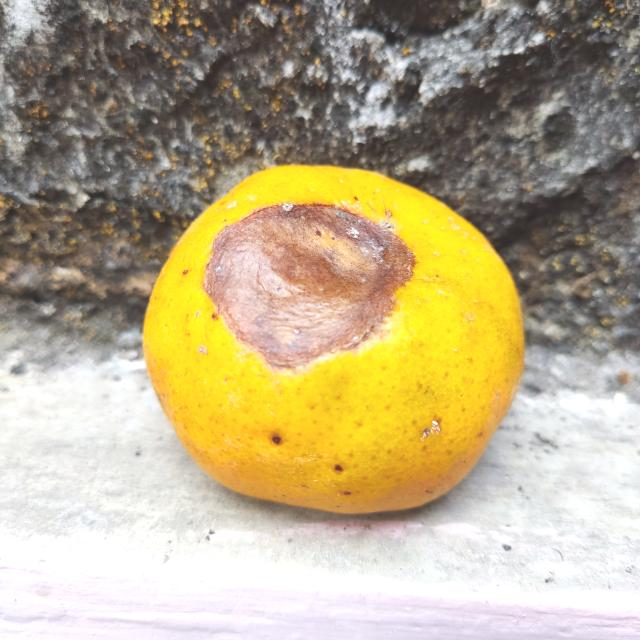orange: (143, 162, 527, 518)
